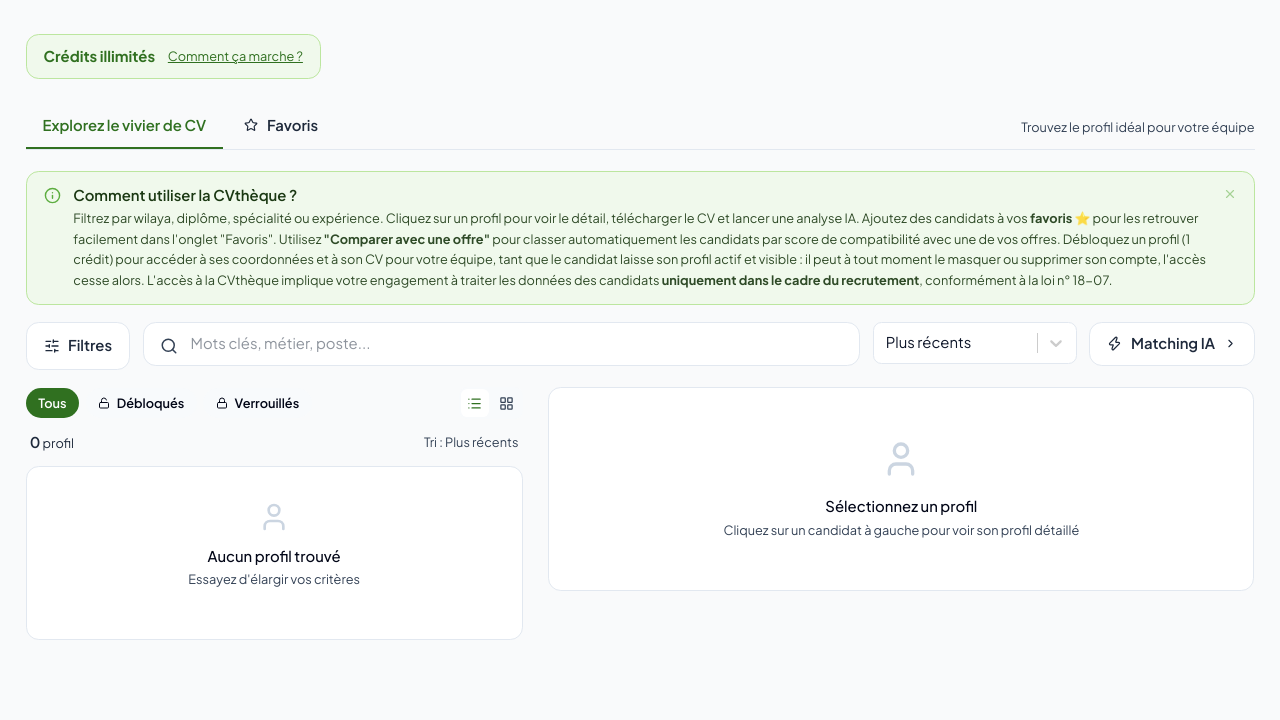
Test: 🔍 UI & Logique - Composant <CVTheque /> › 🟢 HP2 : Recherche par texte avec debounce
Type "React" into the field with placeholder "Mots clés, métier, poste..." at (501, 344), box [143,322,860,366]
Wait 500 ms
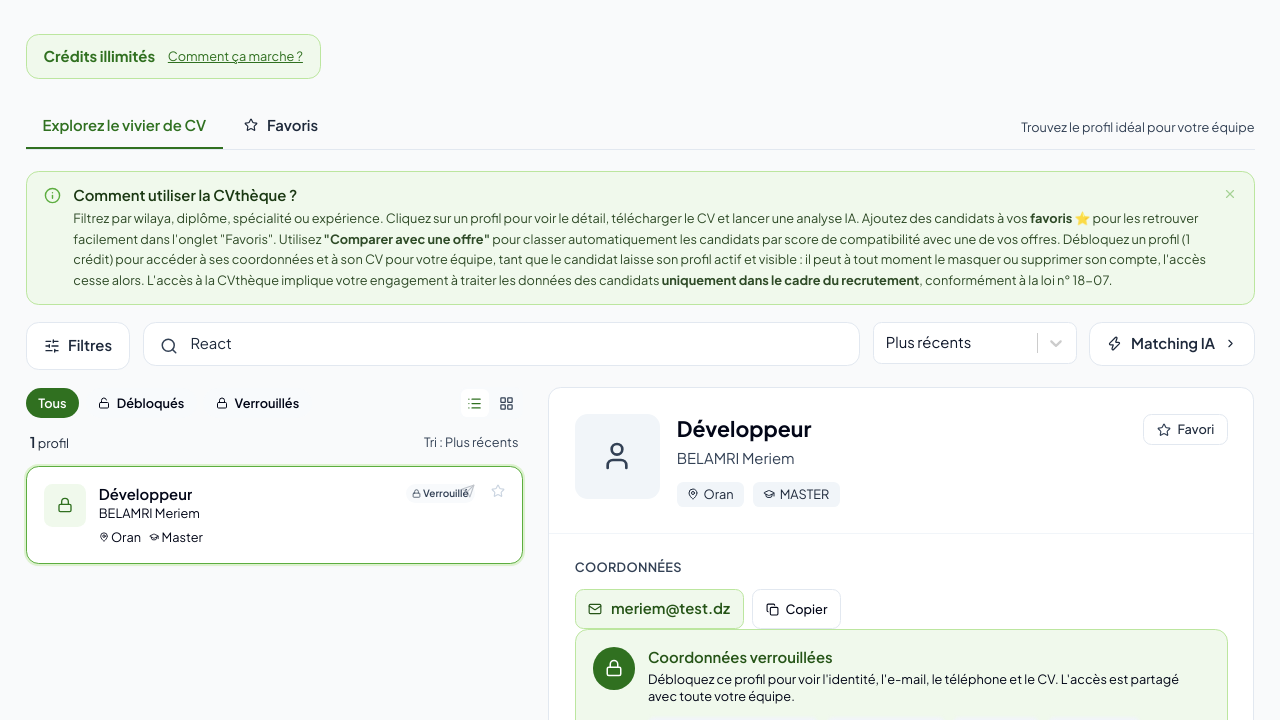
expect the 2nd text "BELAMRI Meriem" is shown: met, box [99,505,200,522]
